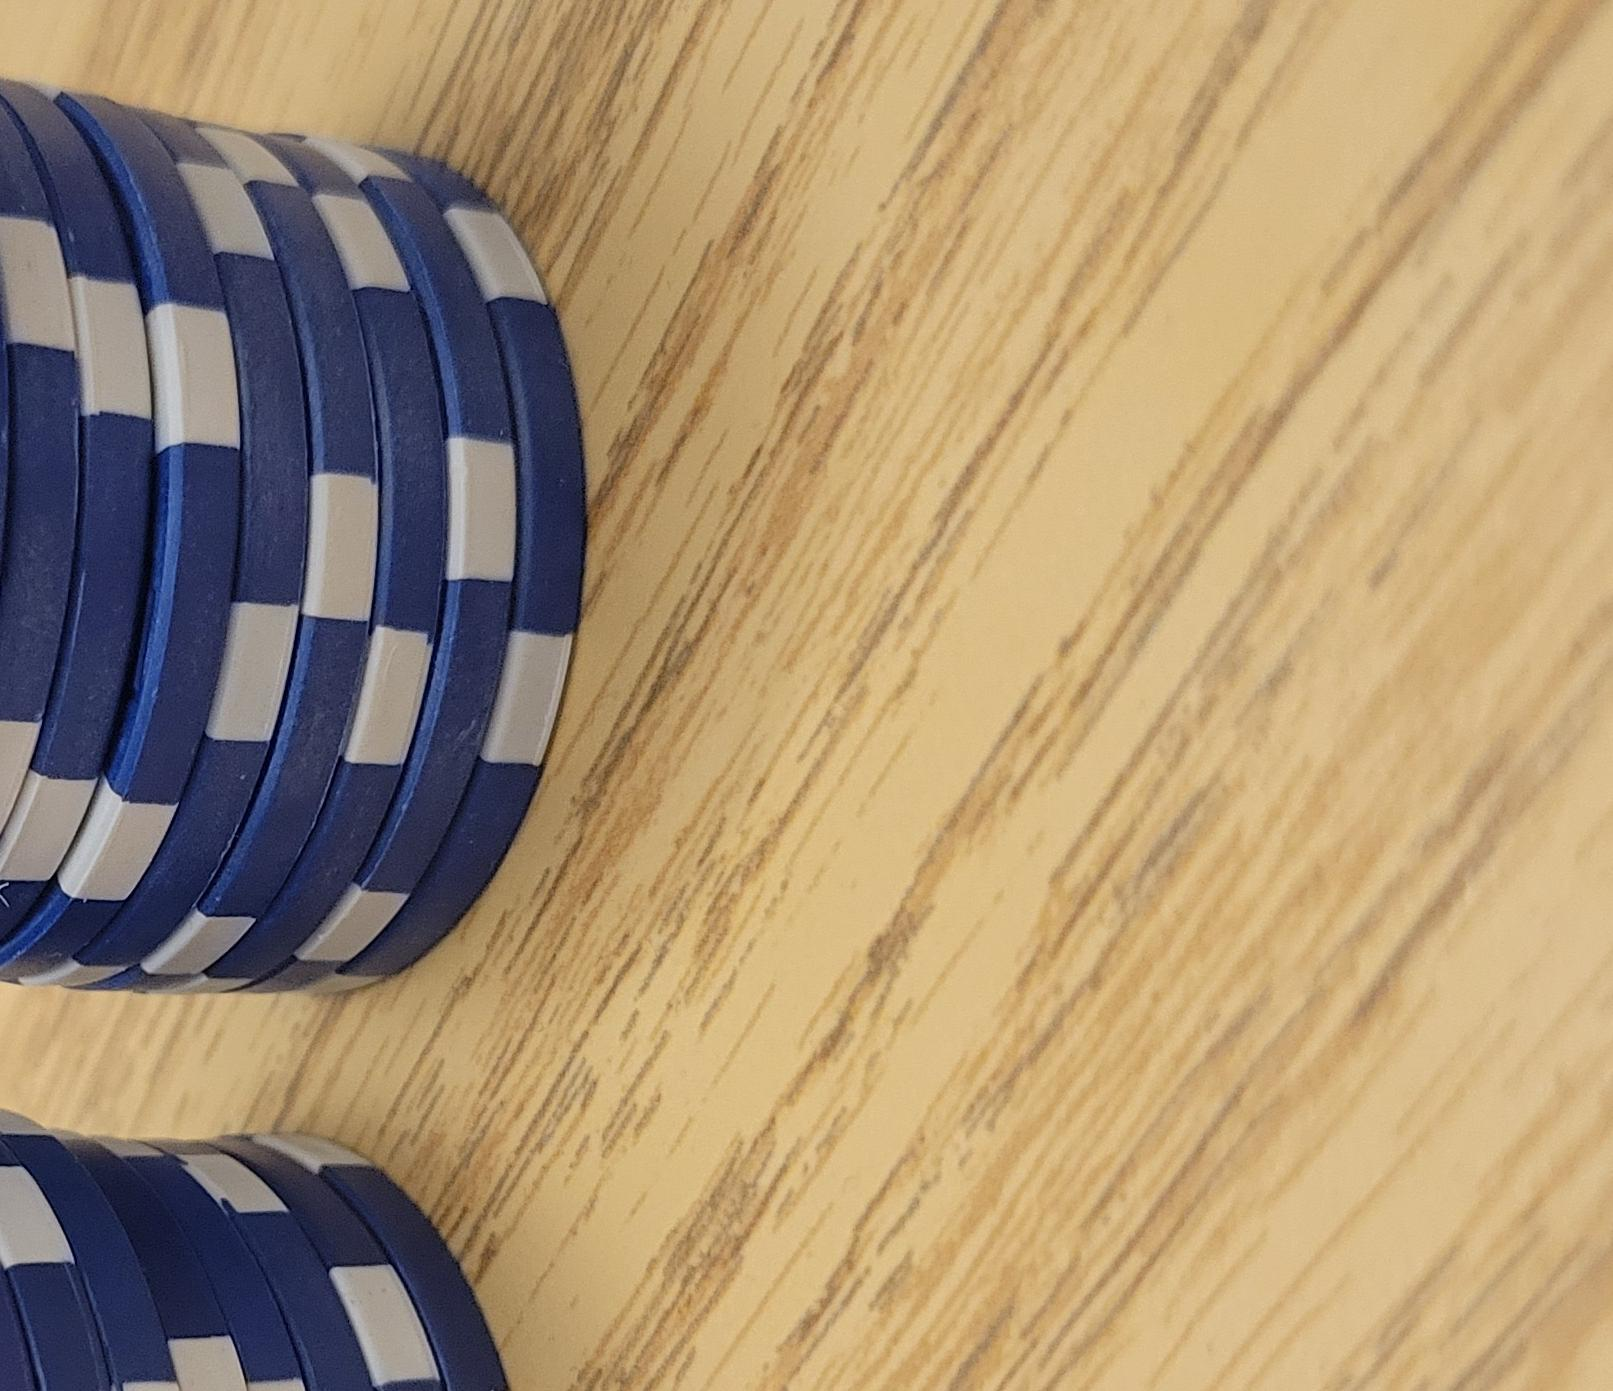Chip: (1, 178, 721, 1391)
